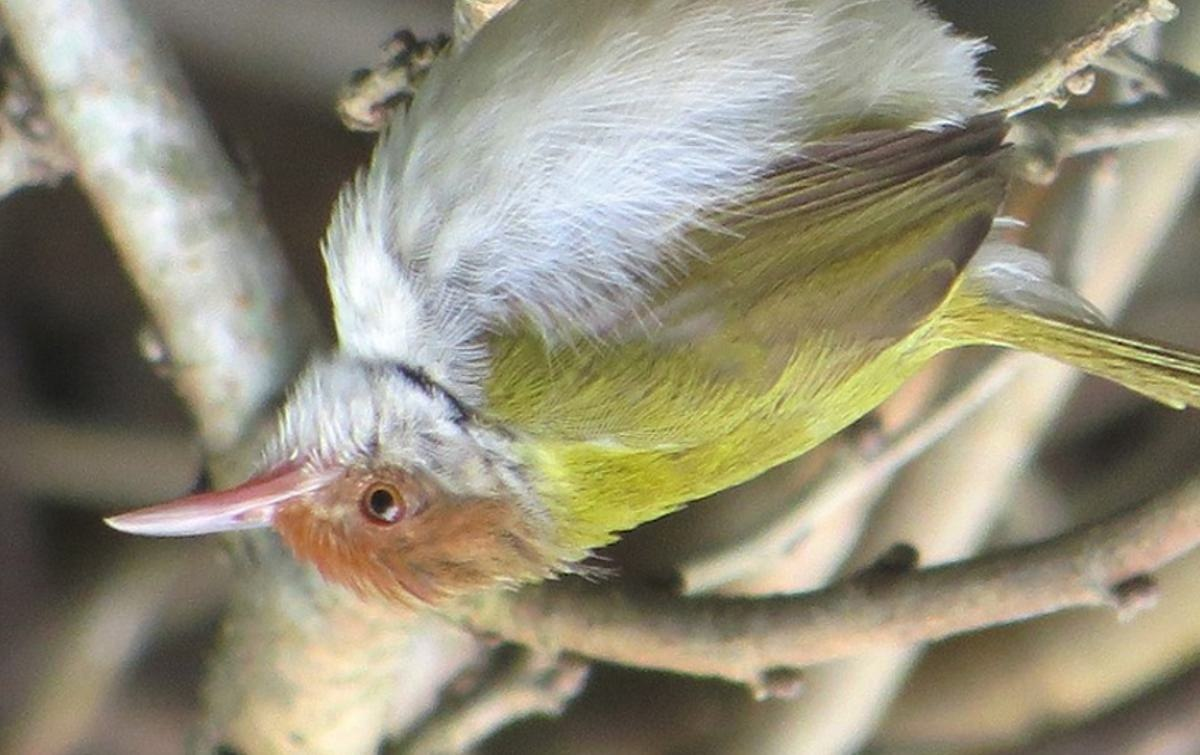tailorbird: (99, 1, 1067, 572)
